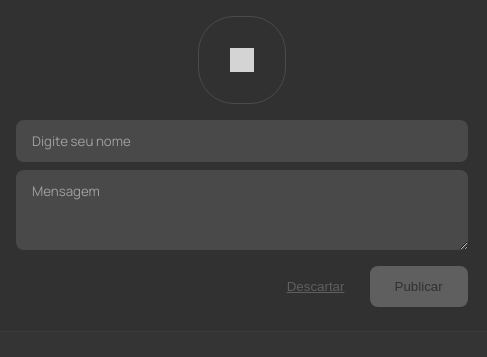
Form › should display image error when the input is not field on submitButton click
The width and height of the screenshot is (487, 357).
Step 1. Type "John Doe" into the field with placeholder "Digite seu nome" → (242, 141), box [16, 120, 468, 162]
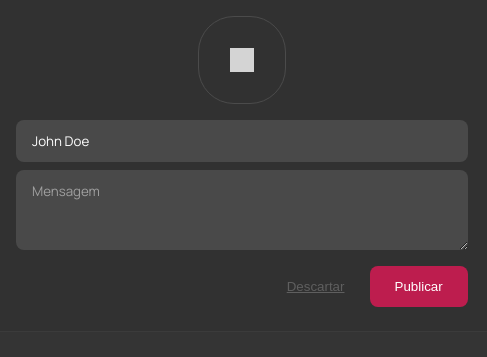
Step 2. Type "John Doe" into the text box with placeholder "Mensagem" → (242, 210), box [16, 170, 468, 250]
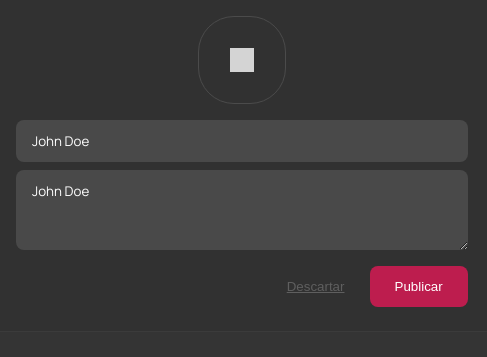
Step 3. Click the button "Publicar" → (419, 286), box [370, 266, 468, 307]
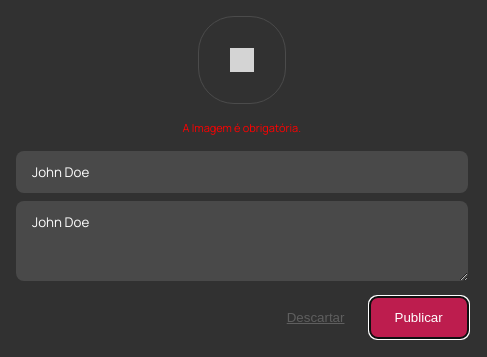
expect the text "A Imagem é obrigatória." is shown: met, box [183, 120, 301, 135]
